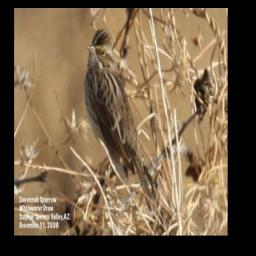Sparrow: (83, 27, 158, 215)
